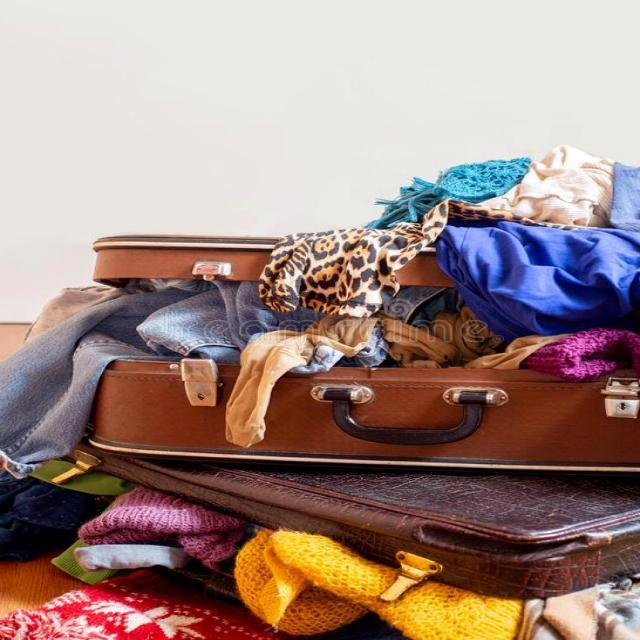clothes: (44, 112, 640, 640)
